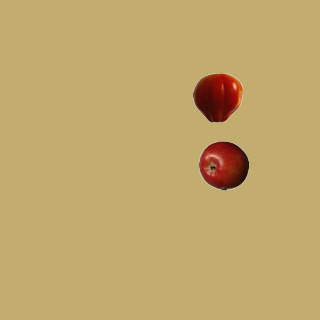Apple Braeburn: (198, 140, 248, 190)
Tomato 1: (192, 72, 242, 122)
